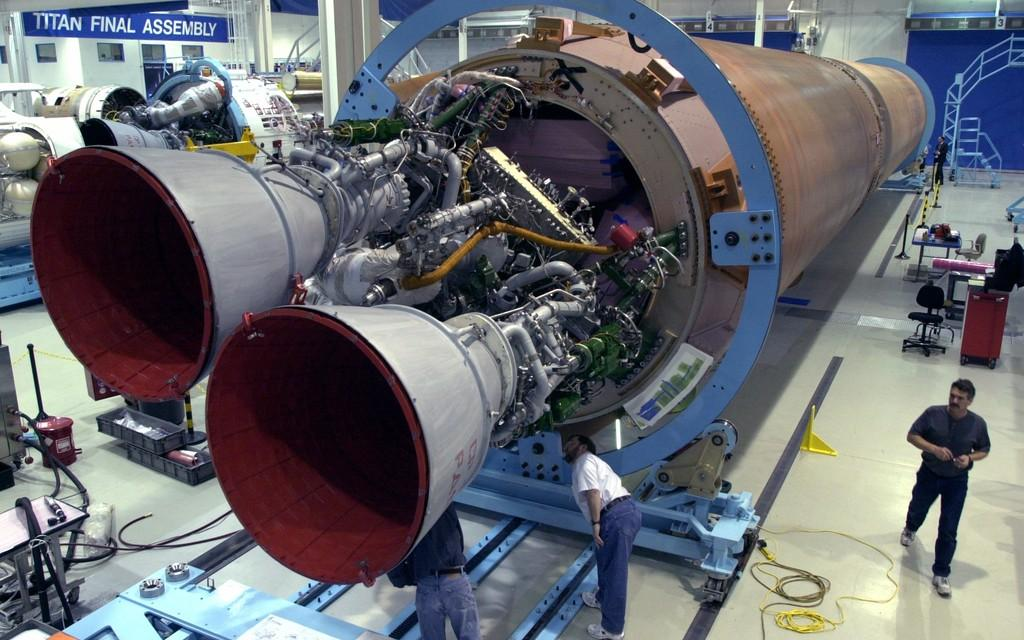body: (360, 18, 932, 427)
thruster: (201, 308, 508, 587), (26, 141, 339, 407), (81, 116, 169, 160)
